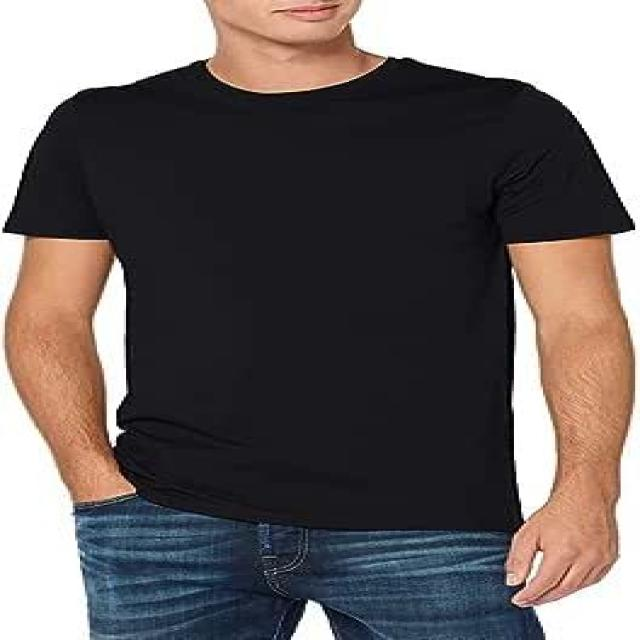Upper-Body: (6, 59, 635, 531)
